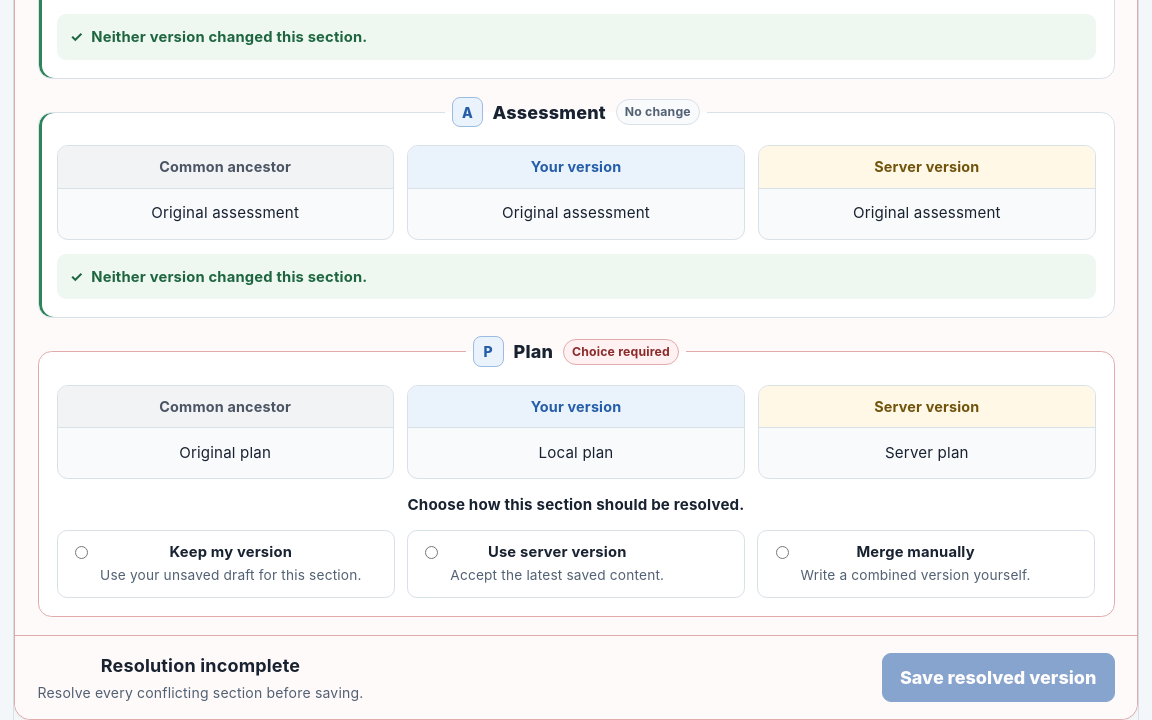
Test: VersionConflictResolver › requires every conflicting section to be resolved
The image size is (1152, 720).
(page scrolled)
expect the button "Save resolved version" is disabled: met, box [882, 653, 1114, 702]
Click the radio button with aria-label "Keep my version for Plan".
click(82, 552)  # box [75, 546, 88, 559]
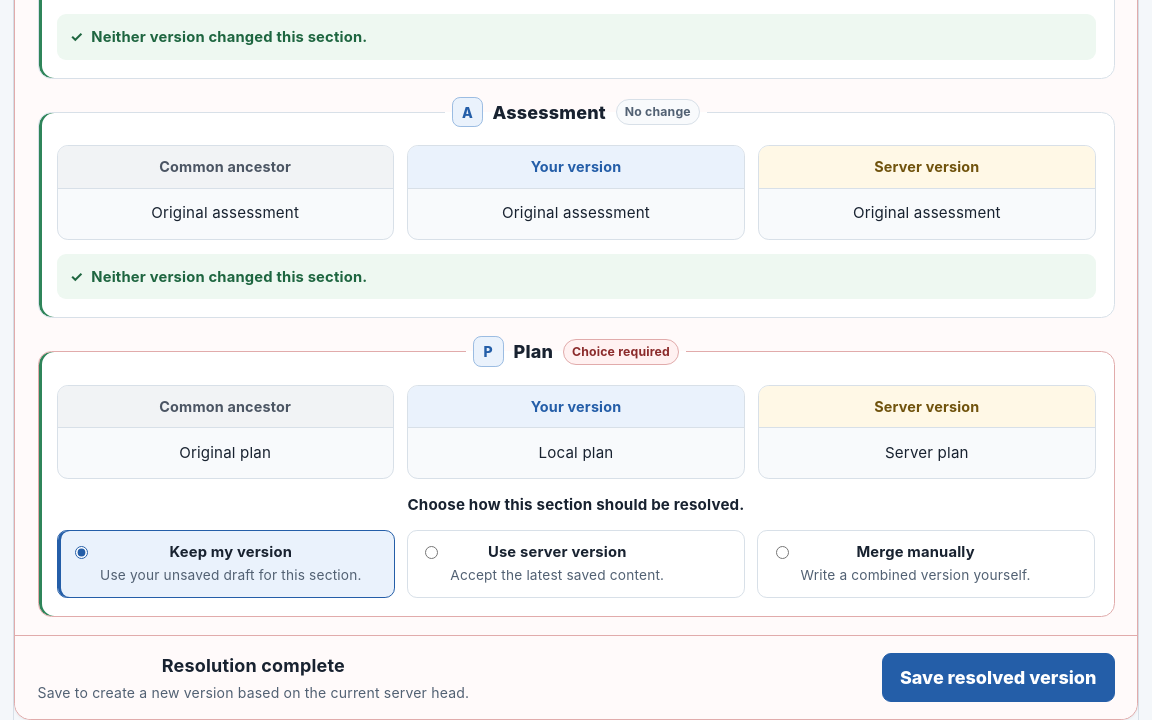
expect the button "Save resolved version" is enabled: met, box [882, 653, 1114, 702]
